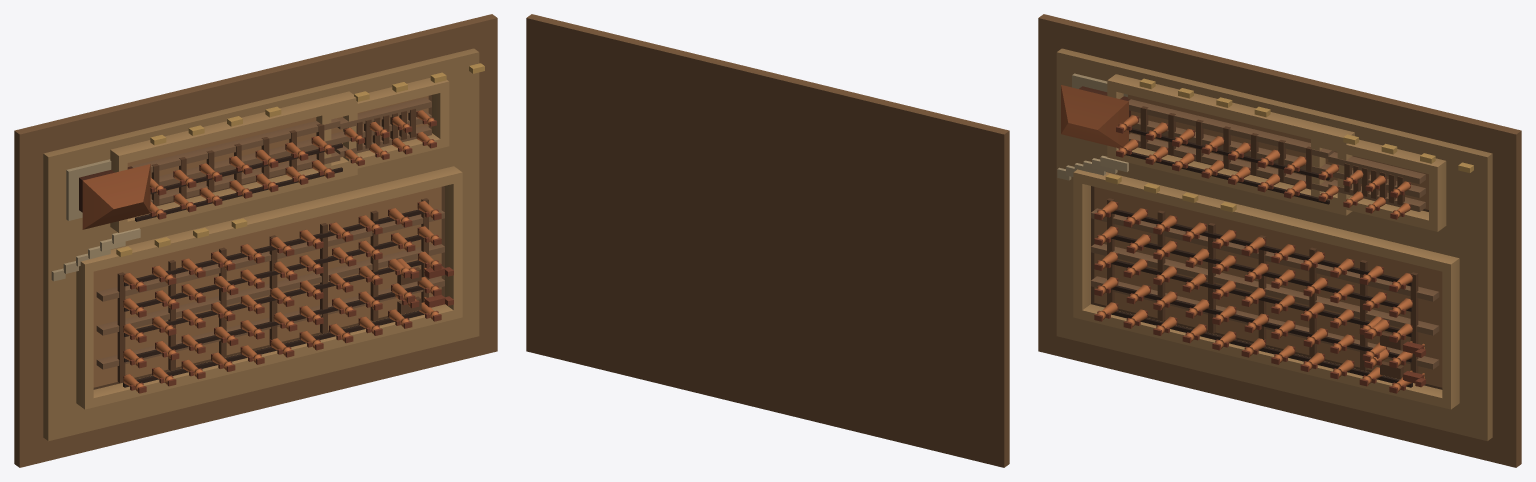
Rendered from terracotta-army.glb.
3 views of the same model, side by side, from view 1: azimuth 30°, elevation 25°; view 2: azimuth 150°, elevation 25°; view 3: azimuth 330°, elevation 25° (orthographic).
Parts seen in each view (by area): view 1: part-loess, part-ground, part-pitFloor, part-divider, part-clay, part-clayDark, part-plank, part-shadow, part-roof, part-stone, part-marker, part-pit; view 2: part-ground; view 3: part-loess, part-ground, part-pitFloor, part-divider, part-clay, part-clayDark, part-plank, part-shadow, part-roof, part-marker, part-stone, part-pit.
Part boxes in pixels (box(x1,y1,x2,y2)): part-loess: box(43, 48, 479, 441); part-ground: box(14, 14, 497, 467); part-pitFloor: box(93, 96, 441, 387); part-divider: box(96, 97, 444, 369); part-clay: box(123, 110, 438, 391); part-clayDark: box(123, 111, 453, 393); part-plank: box(117, 108, 428, 383); part-shadow: box(123, 143, 424, 387); part-roof: box(82, 164, 150, 229); part-stone: box(51, 159, 140, 281); part-marker: box(116, 63, 484, 256); part-pit: box(93, 95, 444, 389); part-ground: box(526, 14, 1009, 467); part-loess: box(1056, 48, 1492, 441); part-ground: box(1038, 14, 1521, 467); part-pitFloor: box(1094, 94, 1442, 387); part-divider: box(1091, 99, 1439, 369); part-clay: box(1097, 115, 1424, 391); part-clayDark: box(1094, 115, 1425, 393); part-plank: box(1107, 106, 1418, 379); part-shadow: box(1111, 128, 1412, 387); part-roof: box(1061, 85, 1128, 148); part-marker: box(1105, 78, 1473, 212); part-stone: box(1057, 73, 1128, 180); part-pit: box(1091, 146, 1442, 389).
Size of the model in its own units: 1.62 by 1.08 by 0.2261.
